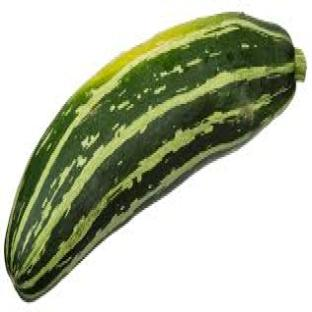Zucchini: (5, 14, 306, 300)
